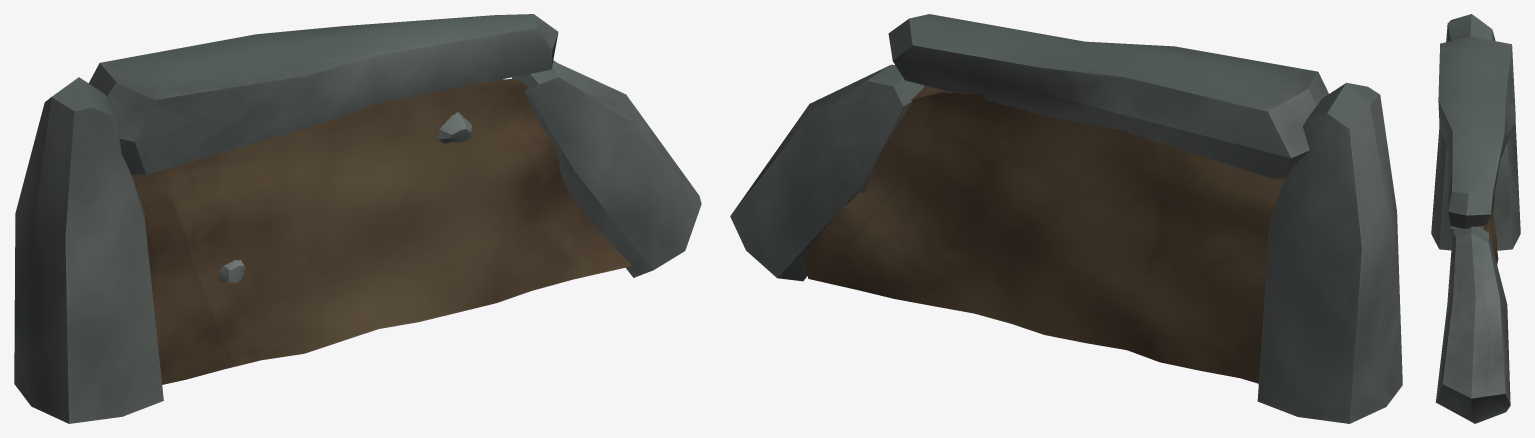
The model's file is Prehistory Final Wall.fbx.
3 views of the same model, side by side, from view 1: azimuth 30°, elevation 25°; view 2: azimuth 150°, elevation 25°; view 3: azimuth 270°, elevation 25° (orthographic). The views are drawn at different scales.
Parts seen in each view (by area): view 1: Prehistory Wall Destroyed.001; view 2: Prehistory Wall Destroyed.001; view 3: Prehistory Wall Destroyed.001.
Boxes of the visible parts, left/top/right/bottom form: Prehistory Wall Destroyed.001: left=14, top=14, right=701, bottom=423; Prehistory Wall Destroyed.001: left=730, top=14, right=1402, bottom=423; Prehistory Wall Destroyed.001: left=1431, top=14, right=1520, bottom=423.
Size of the model in its own units: 1581 by 768 by 274.
Materials: 1 (1 with a texture image).
